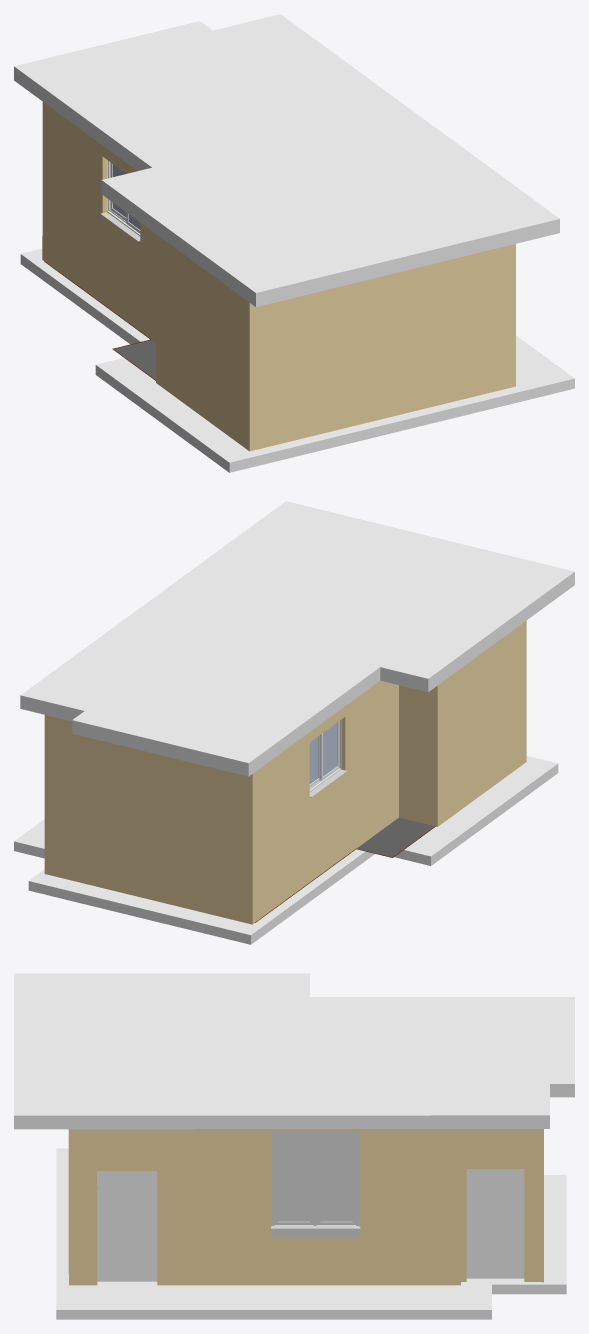
The model's file is FloorPlan18_physics.fbx.
The picture shows the model from 3 angles, top to bottom: view 1: azimuth 30°, elevation 25°; view 2: azimuth 150°, elevation 25°; view 3: azimuth 270°, elevation 25°; orthographic projection. The views are drawn at different scales.
Visible parts, largest first — view 1: Ceiling.005, Baseboard.026, Floor.005, Floor.006; view 2: Ceiling.005, Baseboard.026, Floor.005, Floor.006, WindowPane2; view 3: Ceiling.005, Baseboard.026, Floor.005, Door.004, Door1, WindowPane3, Window.002, DoorFrame.004, DoorFrame.
Part boxes in pixels (x1,y1,x2,y2): Ceiling.005: [14, 14, 559, 306]; Baseboard.026: [42, 102, 515, 451]; Floor.005: [20, 248, 574, 472]; Floor.006: [44, 261, 155, 380]; Ceiling.005: [20, 501, 574, 776]; Baseboard.026: [44, 620, 526, 924]; Floor.005: [14, 756, 558, 944]; Floor.006: [255, 817, 435, 922]; WindowPane2: [323, 723, 337, 776]; Ceiling.005: [14, 973, 574, 1129]; Baseboard.026: [68, 1129, 543, 1285]; Floor.005: [56, 1148, 566, 1319]; Door.004: [102, 1172, 152, 1281]; Door1: [470, 1169, 520, 1278]; WindowPane3: [279, 1135, 351, 1220]; Window.002: [271, 1131, 360, 1237]; DoorFrame.004: [97, 1171, 157, 1281]; DoorFrame: [466, 1169, 524, 1278].
Size of the model in its own units: 636 by 343 by 933.
